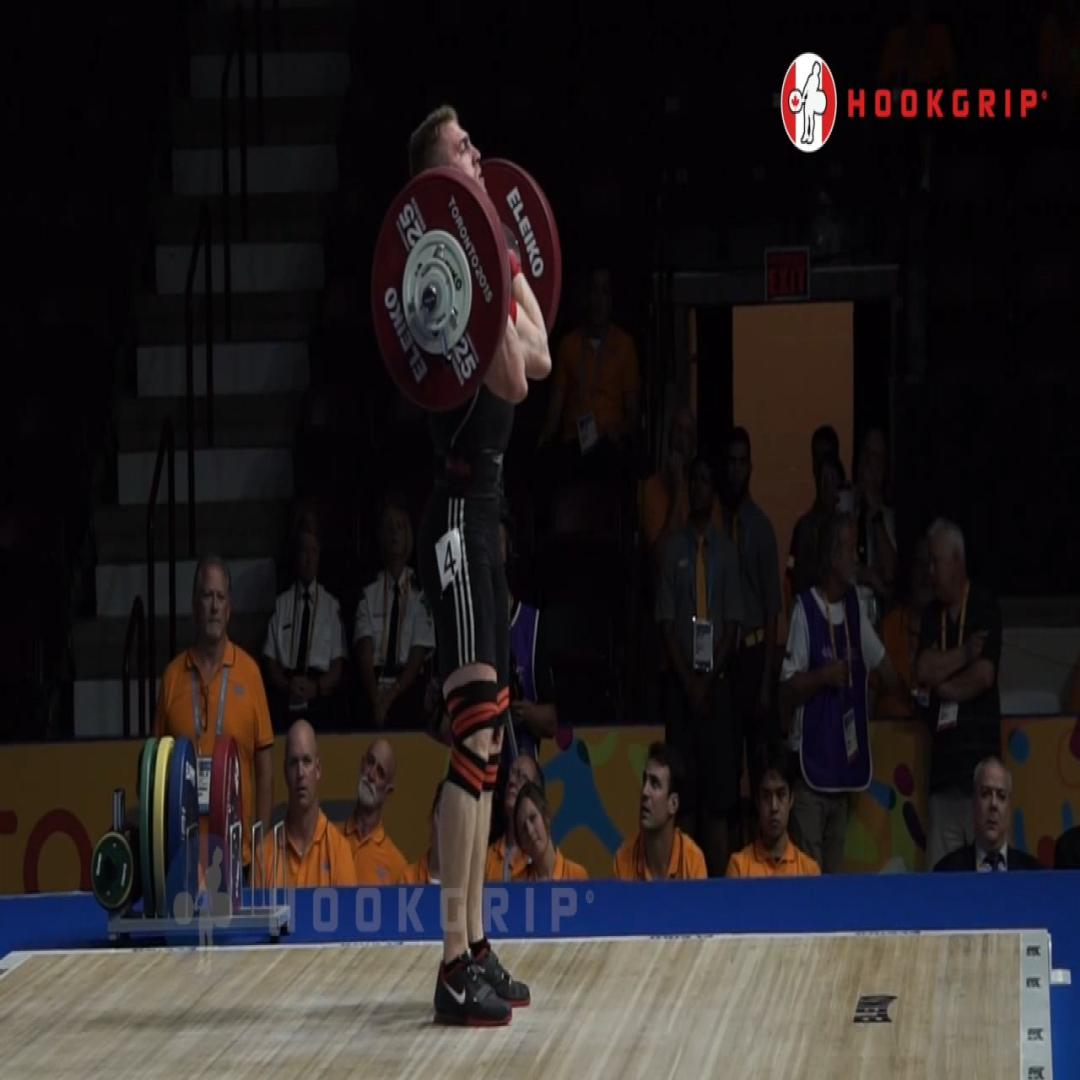Bar: (422, 284, 438, 312)
Barbell: (371, 173, 503, 411)
